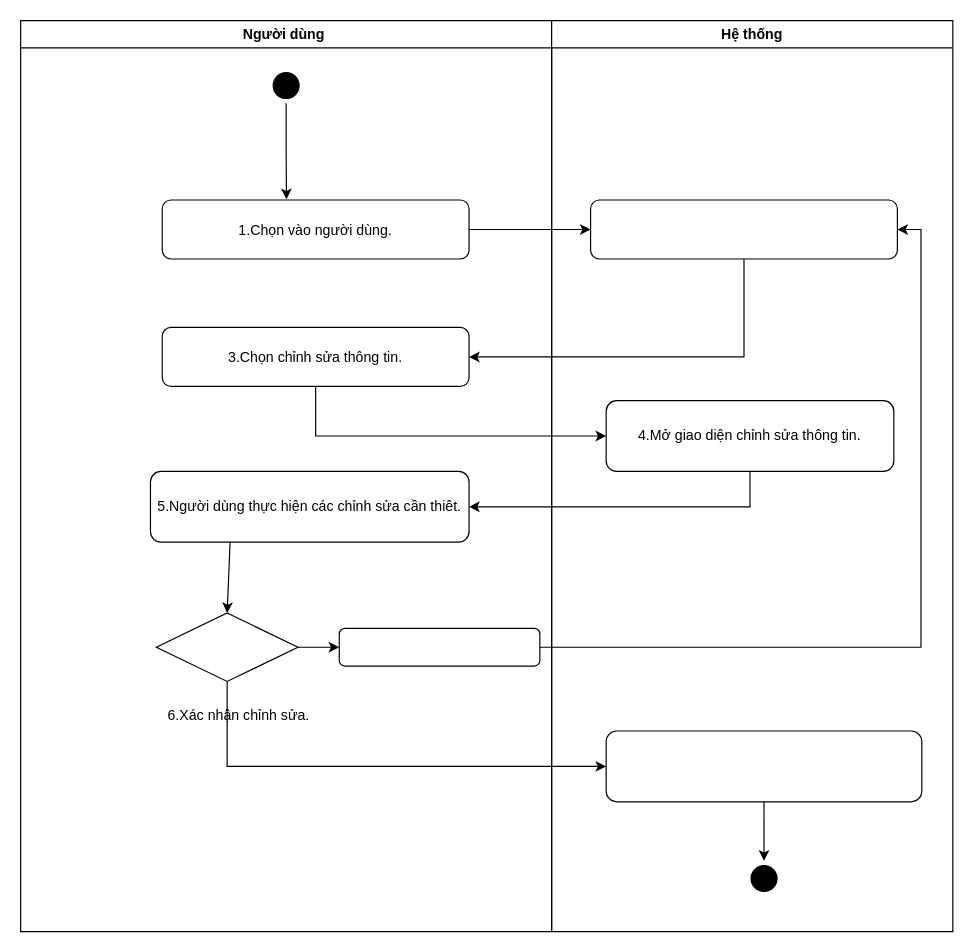
The diagram is 973 pixels wide and 952 high, and some of its shapes have lost their labels. Each missing label, with the centre of its shape:
2.Mở giao diện người dùng.: point (743, 229)
6.1 Chọn huỷ.: point (439, 646)
7.Hệ thống cập nhật thông tin chỉnh sửa vào CSDL và đưa về giao diện người dùng.: point (763, 766)
